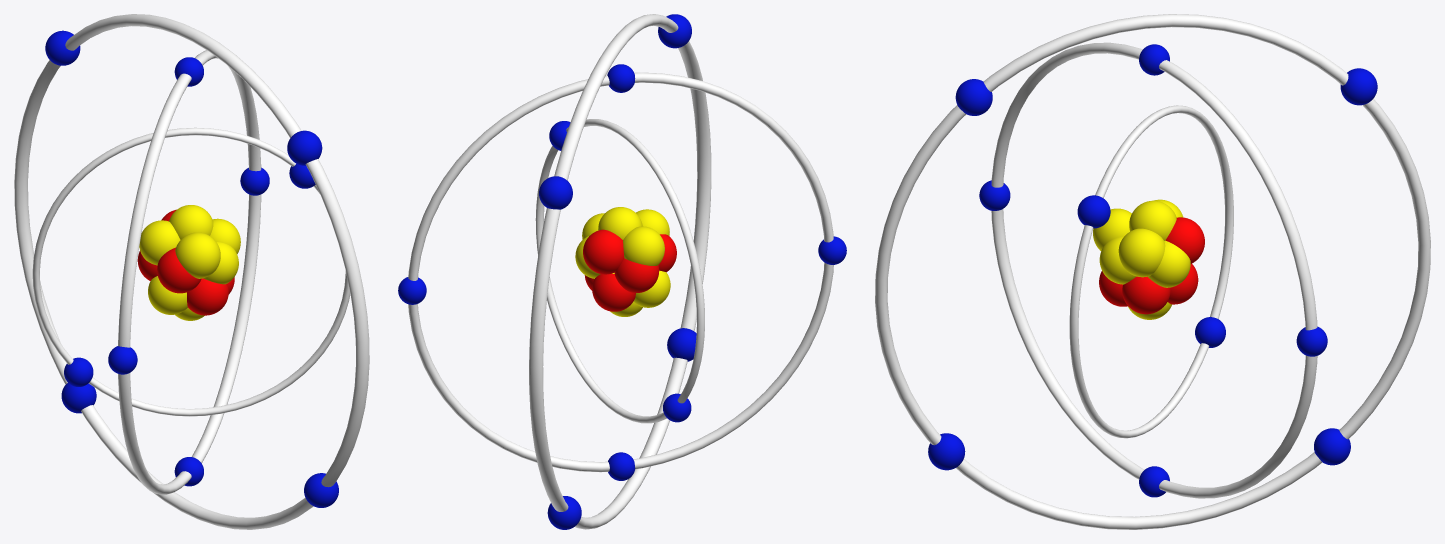
Rendered from atom.glb.
3 renders of one model, left to right at view 1: azimuth 30°, elevation 25°; view 2: azimuth 150°, elevation 25°; view 3: azimuth 270°, elevation 25°, orthographic. The views are drawn at different scales.
Visible parts, largest first — view 1: Atom; view 2: Atom; view 3: Atom.
Part boxes in pixels (<box>): Atom: <box>14,14,369,529</box>; Atom: <box>398,14,846,529</box>; Atom: <box>875,14,1430,529</box>.
Bounding box in the file's own units: 272 × 410 × 403.
Materials: 1 (1 with a texture image).
